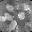people: (9, 20, 18, 31), (17, 12, 26, 21), (5, 4, 15, 12), (6, 13, 14, 21), (0, 15, 8, 22)
